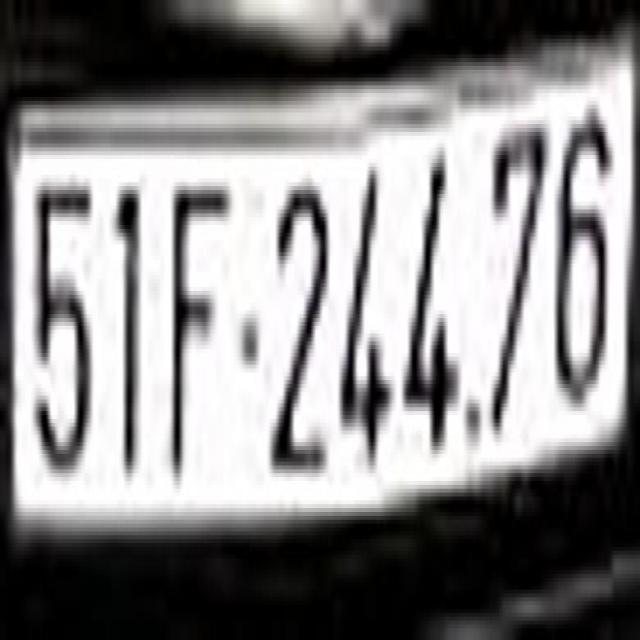1: (105, 159, 153, 516)
2: (270, 148, 329, 500)
4: (398, 140, 459, 473), (338, 136, 391, 488)
5: (30, 143, 94, 504)
6: (551, 93, 610, 400)
7: (486, 105, 546, 442)
F: (167, 163, 227, 497)
